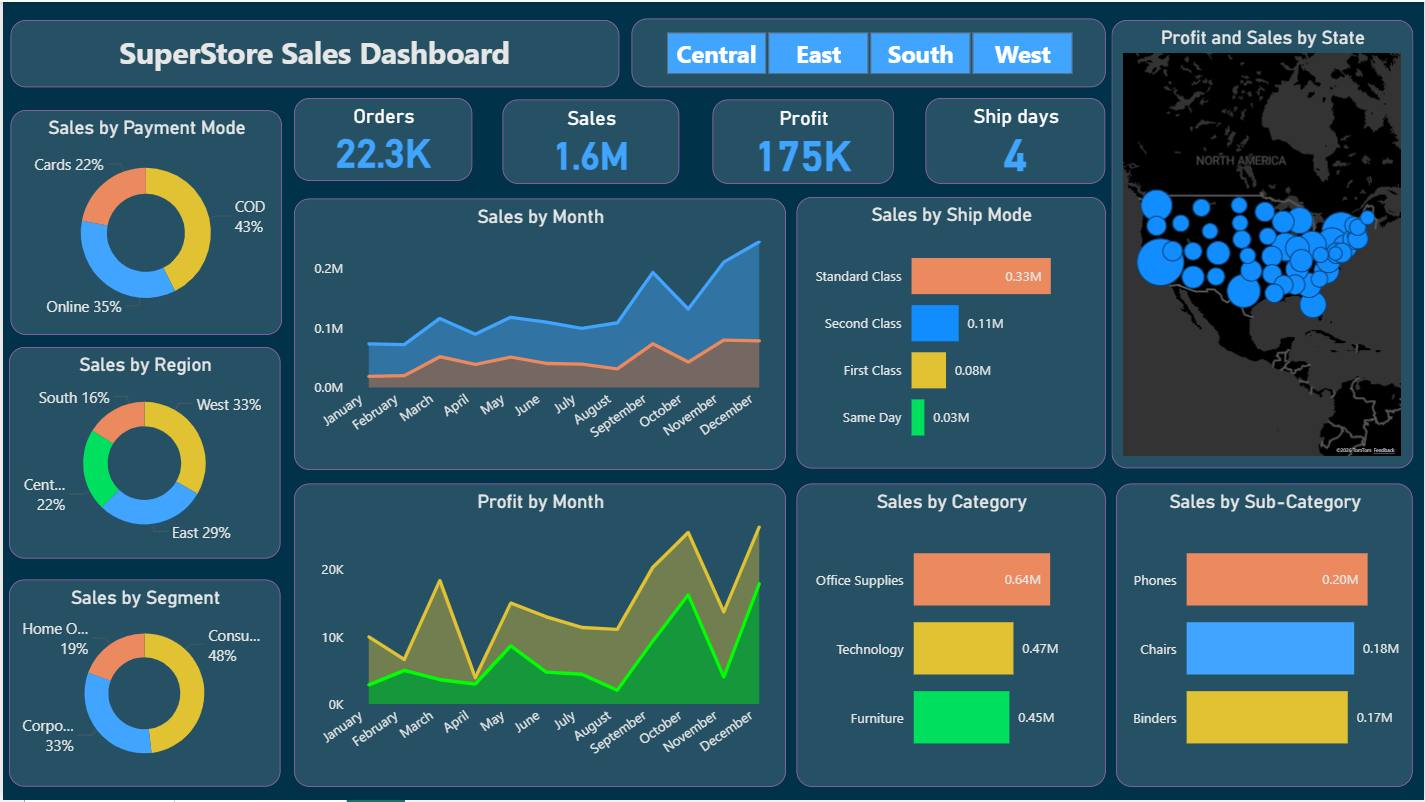

The page's visual inventory and layout, read from the dashboard file:
{"tool":"powerbi","page":{"name":"Dashboard","canvas":[1280,720],"ordinal":0},"visuals":[{"type":"clusteredBarChart","title":"Sales by Category","fields":{"Category":["Sheet1.Category"],"Y":["Sum(Sheet1.Sales)"]},"box":[715.1,433.9,278.5,273],"z":0},{"type":"clusteredBarChart","title":"Sales by Sub-Category","fields":{"Y":["Sum(Sheet1.Sales)"],"Category":["Sheet1.Sub-Category"]},"box":[1003,433.9,267.6,273],"z":1000},{"type":"clusteredBarChart","title":"Sales by Ship Mode","fields":{"Y":["Sum(Sheet1.Sales)"],"Category":["Sheet1.Ship Mode"]},"box":[715.1,175.7,278.5,244.7],"z":2000},{"type":"stackedAreaChart","title":"Sales by Month","fields":{"Y":["Sum(Sheet1.Sales)"],"Category":["Sheet1.Order Date.Variation.Date Hierarchy.Month"],"Series":["Sheet1.Order Date.Variation.Date Hierarchy.Year"]},"box":[262.2,177.1,443.4,244.7],"z":3000},{"type":"stackedAreaChart","title":"Profit by Month","fields":{"Category":["Sheet1.Order Date.Variation.Date Hierarchy.Month"],"Series":["Sheet1.Order Date.Variation.Date Hierarchy.Year"],"Y":["Sum(Sheet1.Profit)"]},"box":[262.2,433.9,443.4,273],"z":4000},{"type":"azureMap","title":"Profit and Sales by State","fields":{"Category":["Sheet1.State"],"Size":["Sum(Sheet1.Sales)"]},"box":[998.9,16.2,271.7,404.2],"z":5000},{"type":"donutChart","title":"Sales by Segment","fields":{"Category":["Sheet1.Segment"],"Y":["Sum(Sheet1.Sales)"]},"box":[5.4,520.4,244.7,186.5],"z":6000},{"type":"donutChart","title":"Sales by Payment Mode","fields":{"Y":["Sum(Sheet1.Sales)"],"Category":["Sheet1.Payment Mode"]},"box":[6.8,97.3,244.7,202.8],"z":7000},{"type":"slicer","fields":{"Values":["Sheet1.Region"]},"box":[566.4,14.9,427.1,62.2],"z":8000},{"type":"card","title":"Sales","fields":{"Values":["Sum(Sheet1.Sales)"]},"box":[450.1,87.9,159.5,75.7],"z":9000},{"type":"card","title":"Orders","fields":{"Values":["Sum(Sheet1.Quantity)"]},"box":[262.2,86.5,160.9,74.3],"z":10000},{"type":"card","title":"Profit","fields":{"Values":["Sum(Sheet1.Profit)"]},"box":[639.4,87.9,163.6,75.7],"z":11000},{"type":"card","title":"Ship days","fields":{"Values":["Avg(Sheet1.AvgDelivery)"]},"box":[831.3,86.5,162.2,77],"z":12000},{"type":"donutChart","title":"Sales by Region","fields":{"Y":["Sum(Sheet1.Sales)"],"Category":["Sheet1.Region"]},"box":[5.4,310.9,244.7,190.6],"z":13000},{"type":"textbox","box":[6.8,16.2,548.8,60.8],"z":14000}]}

Visuals, with their boxes in screenshot pixels (x1, y1, x2, y2), scaled from the page's 1280x720 canvas onto the 1425x802 screenshot:
"Sales by Category" clusteredBarChart: pyautogui.locateOnScreen(796, 483, 1106, 787)
"Sales by Sub-Category" clusteredBarChart: pyautogui.locateOnScreen(1117, 483, 1415, 787)
"Sales by Ship Mode" clusteredBarChart: pyautogui.locateOnScreen(796, 196, 1106, 468)
"Sales by Month" stackedAreaChart: pyautogui.locateOnScreen(292, 197, 786, 470)
"Profit by Month" stackedAreaChart: pyautogui.locateOnScreen(292, 483, 786, 787)
"Profit and Sales by State" azureMap: pyautogui.locateOnScreen(1112, 18, 1415, 468)
"Sales by Segment" donutChart: pyautogui.locateOnScreen(6, 580, 278, 787)
"Sales by Payment Mode" donutChart: pyautogui.locateOnScreen(8, 108, 280, 334)
slicer - Sheet1.Region: pyautogui.locateOnScreen(631, 17, 1106, 86)
"Sales" card: pyautogui.locateOnScreen(501, 98, 679, 182)
"Orders" card: pyautogui.locateOnScreen(292, 96, 471, 179)
"Profit" card: pyautogui.locateOnScreen(712, 98, 894, 182)
"Ship days" card: pyautogui.locateOnScreen(925, 96, 1106, 182)
"Sales by Region" donutChart: pyautogui.locateOnScreen(6, 346, 278, 559)
textbox: pyautogui.locateOnScreen(8, 18, 619, 86)
